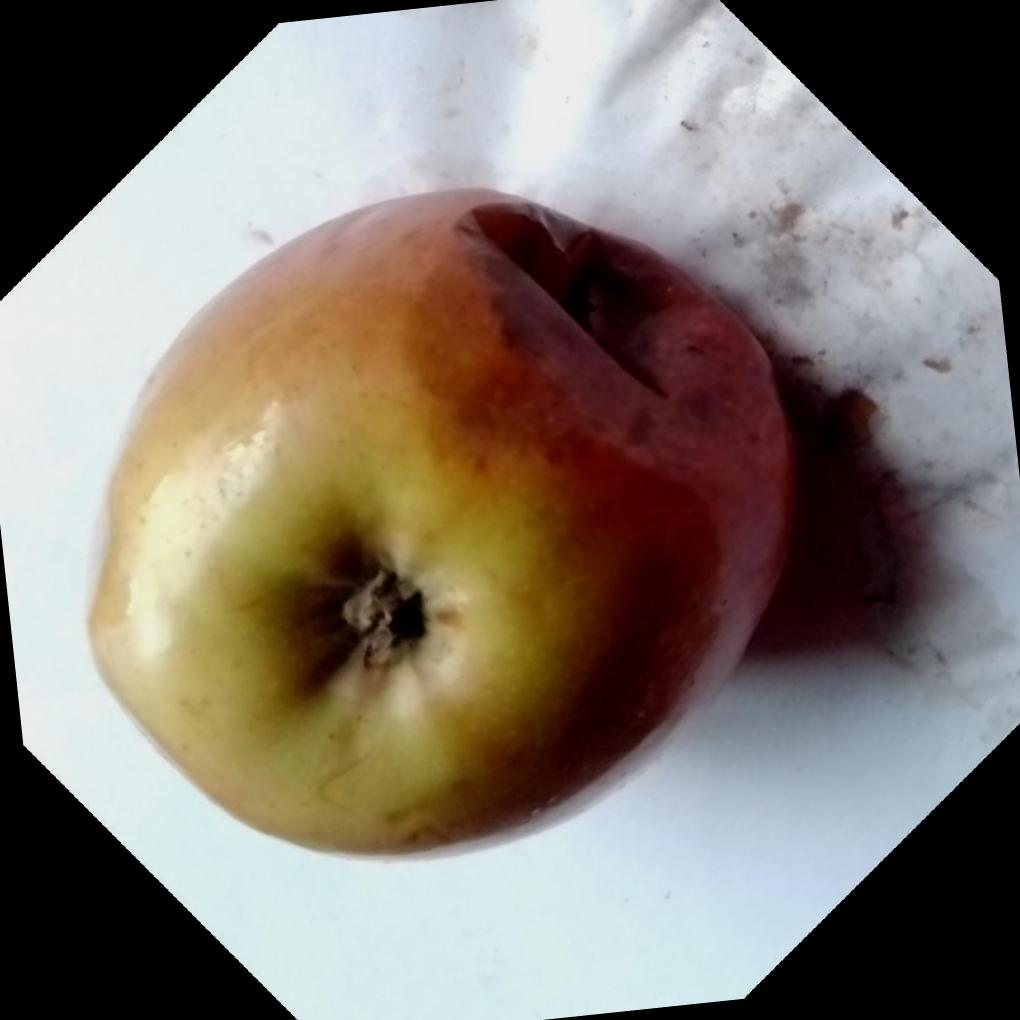FreshOrange: (83, 181, 802, 859)
